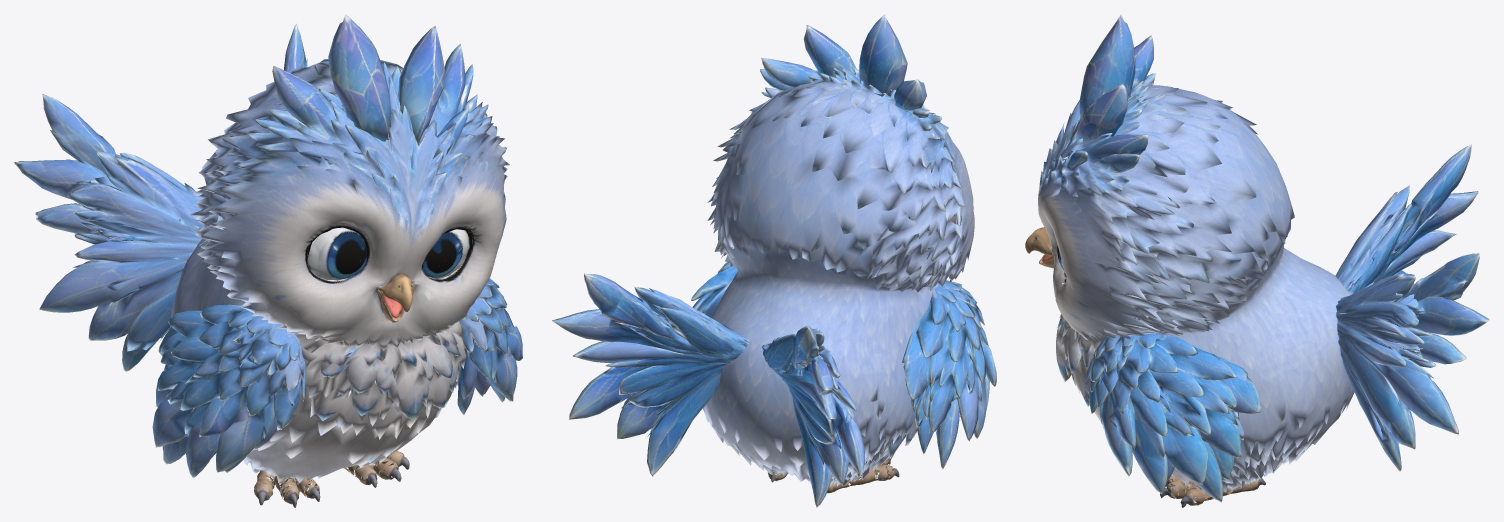
The model's file is frostowl.glb.
The picture shows the model from 3 angles, left to right: view 1: azimuth 30°, elevation 25°; view 2: azimuth 150°, elevation 25°; view 3: azimuth 270°, elevation 25°; orthographic projection. The views are drawn at different scales.
Visible parts, largest first — view 1: frostowl; view 2: frostowl; view 3: frostowl.
Boxes of the visible parts, bbox=[...] form: frostowl: bbox=[14, 14, 522, 507]; frostowl: bbox=[552, 14, 996, 507]; frostowl: bbox=[1025, 14, 1489, 507].
Bounding box in the file's own units: 0.7067 × 1 × 0.9308.
1 material, 1 textured.
